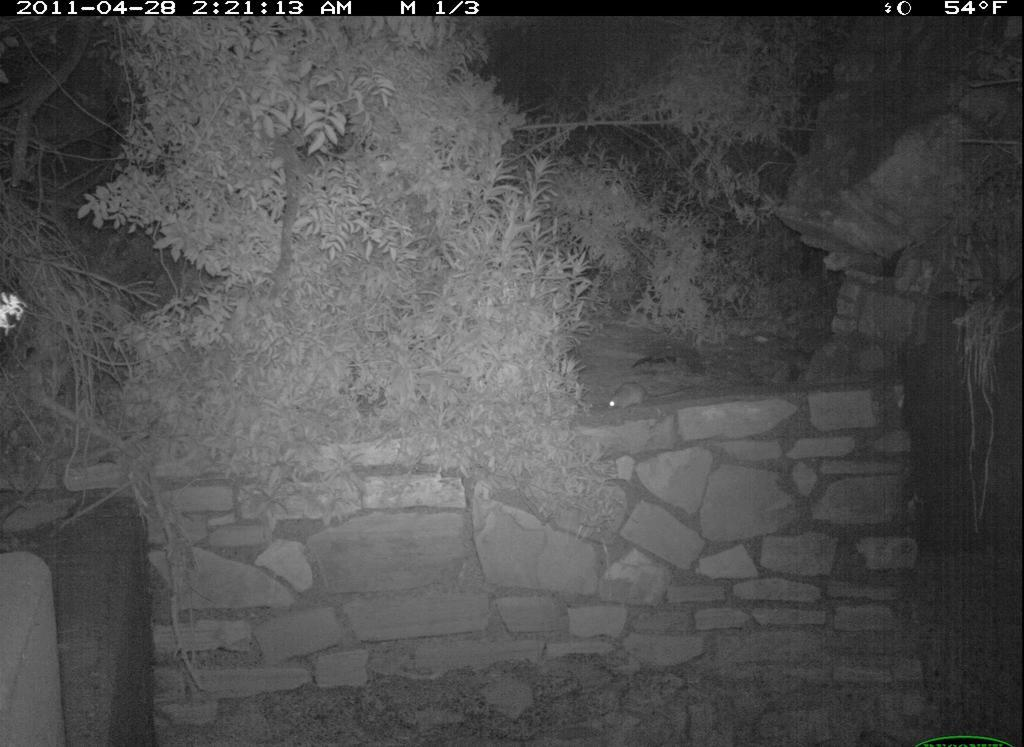rodent: (601, 377, 696, 418)
